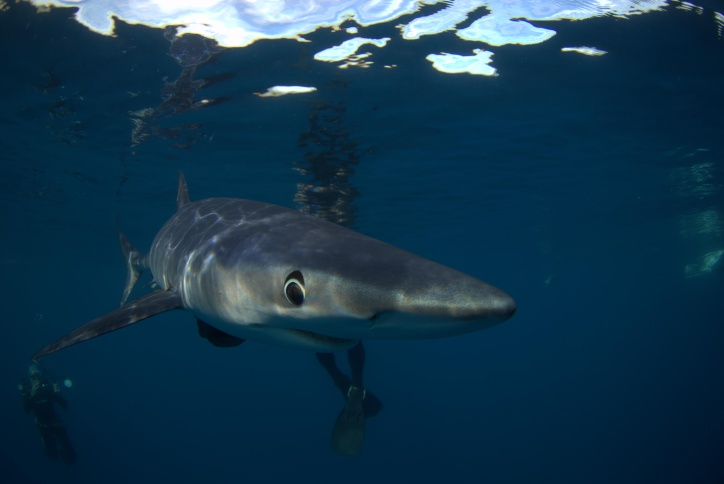Azul: (25, 154, 570, 445)
